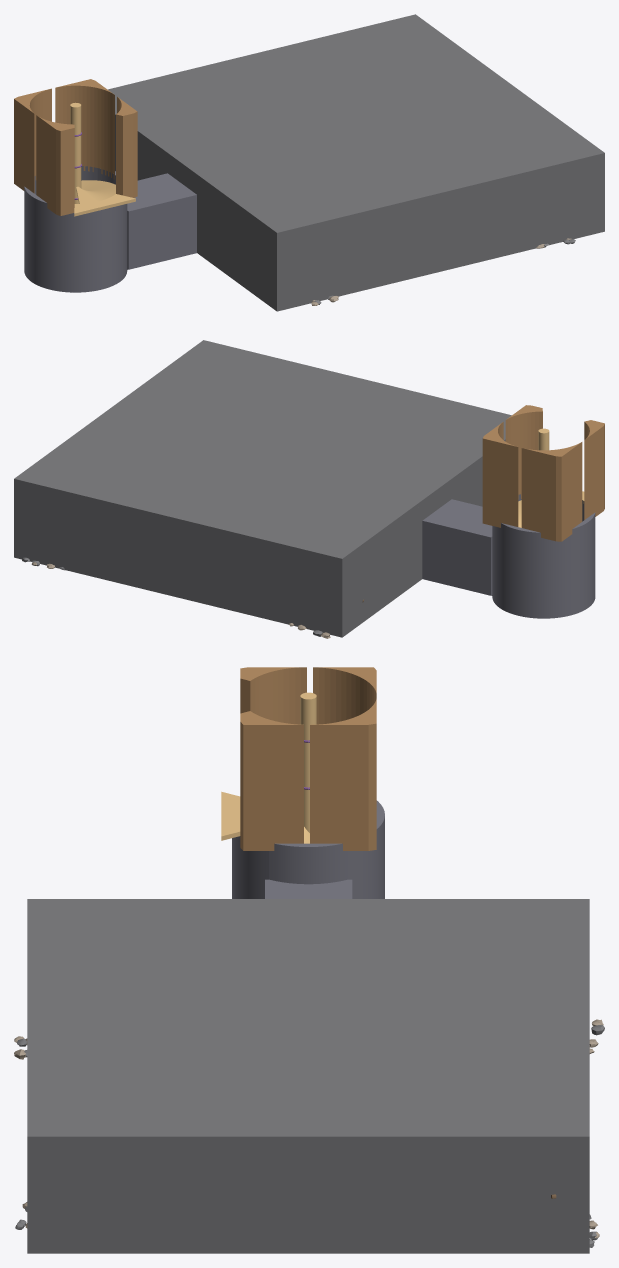
File: ESC_GingerbreadVillage.fbx
3 renders of one model, top to bottom at view 1: azimuth 30°, elevation 25°; view 2: azimuth 150°, elevation 25°; view 3: azimuth 270°, elevation 25°, orthographic. The views are drawn at different scales.
Parts seen in each view (by area): view 1: Body; view 2: Body; view 3: Body, Decor.
Part boxes in pixels (x1,y1,x2,y2): Body: (14,14,604,311); Body: (14,340,604,637); Body: (27,667,589,1253); Decor: (14,740,604,1247).
Size of the model in its own units: 60.44 by 19.9 by 43.29.
